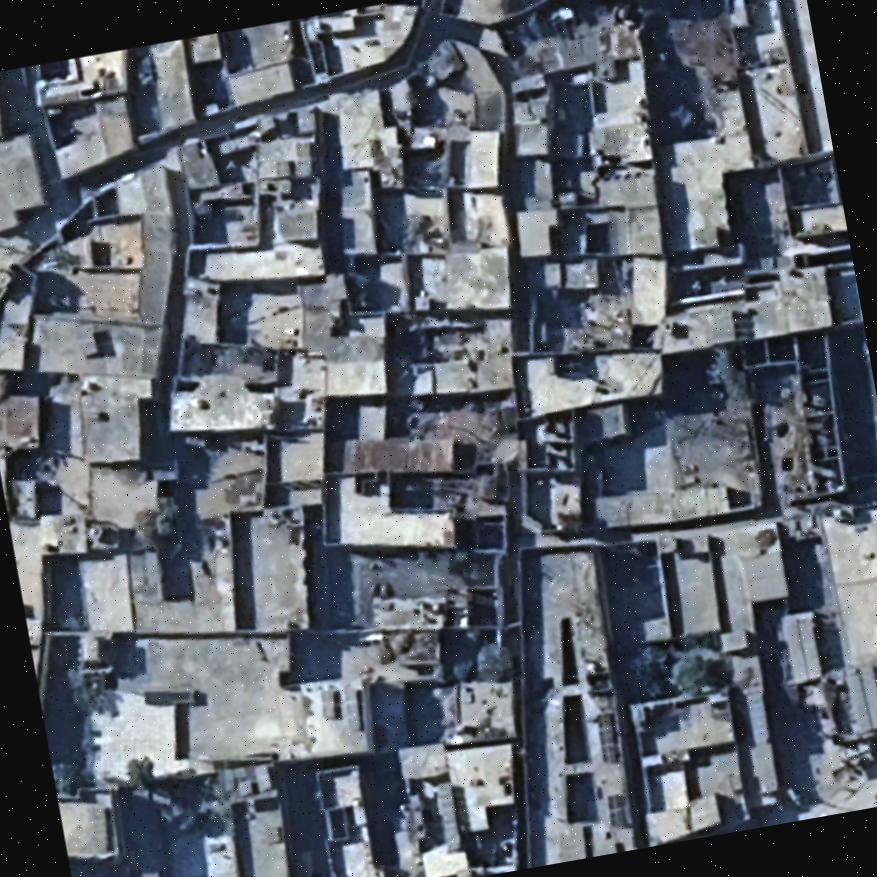Solarpanel: (590, 707, 624, 769), (603, 788, 634, 833)
